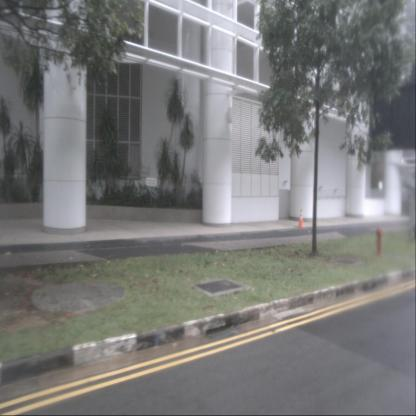movable_object-trafficcone: (297, 208, 305, 228)
